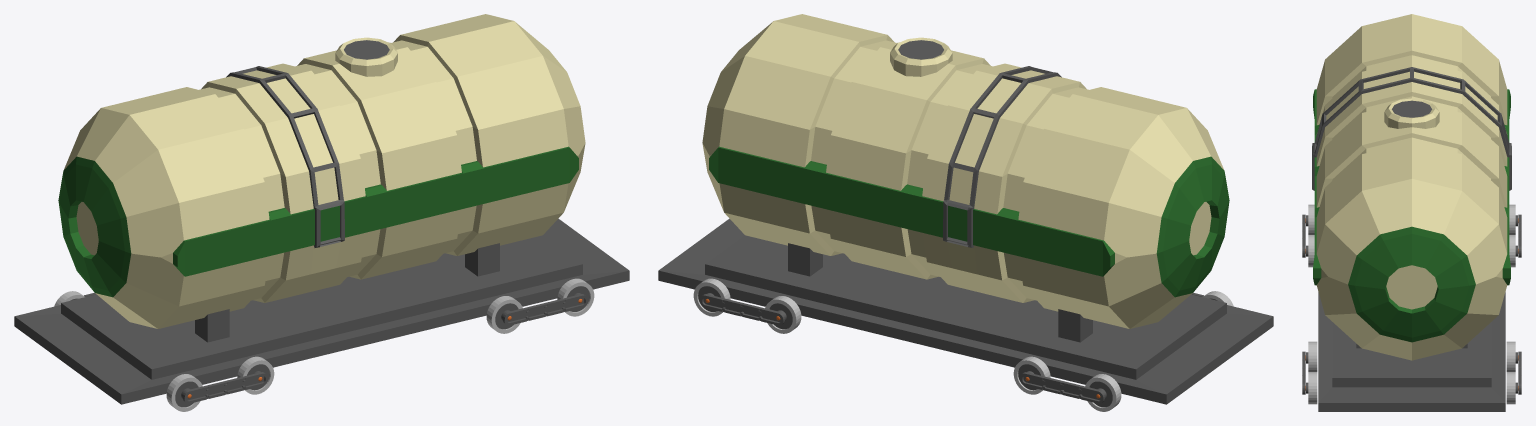
The model's file is oil_container.glb.
The picture shows the model from 3 angles, left to right: view 1: azimuth 30°, elevation 25°; view 2: azimuth 150°, elevation 25°; view 3: azimuth 270°, elevation 25°; orthographic projection. The views are drawn at different scales.
Parts seen in each view (by area): view 1: OilContainer, Base, WheelConector, OilDrain, Cube, Wheel_3, Wheel_7, Wheel_6, Wheel_2; view 2: OilContainer, Base, WheelConector, OilDrain, Cube, Wheel_1, Wheel_5, Wheel_4, Wheel_0; view 3: OilContainer, Base, OilDrain, WheelConector, Wheel_4, Wheel_6, Wheel_5, Wheel_7, Wheel_0, Wheel_2, Wheel_1, Wheel_3.
Boxes of the visible parts, bbox=[...] form: OilContainer: bbox=[58, 14, 585, 328]; Base: bbox=[14, 218, 629, 404]; WheelConector: bbox=[84, 292, 587, 403]; OilDrain: bbox=[335, 37, 397, 76]; Cube: bbox=[195, 243, 499, 342]; Wheel_3: bbox=[166, 374, 202, 411]; Wheel_7: bbox=[486, 296, 522, 333]; Wheel_6: bbox=[557, 278, 594, 316]; Wheel_2: bbox=[237, 356, 274, 394]; OilContainer: bbox=[702, 14, 1229, 328]; Base: bbox=[658, 218, 1273, 404]; WheelConector: bbox=[700, 292, 1203, 403]; OilDrain: bbox=[890, 37, 952, 76]; Cube: bbox=[788, 243, 1092, 342]; Wheel_1: bbox=[1085, 374, 1121, 411]; Wheel_5: bbox=[765, 296, 801, 333]; Wheel_4: bbox=[693, 278, 730, 316]; Wheel_0: bbox=[1013, 356, 1050, 394]; OilContainer: bbox=[1312, 14, 1511, 360]; Base: bbox=[1318, 292, 1505, 411]; OilDrain: bbox=[1384, 98, 1439, 128]; WheelConector: bbox=[1302, 214, 1521, 394]; Wheel_4: bbox=[1506, 372, 1518, 404]; Wheel_6: bbox=[1305, 372, 1317, 404]; Wheel_5: bbox=[1506, 341, 1518, 371]; Wheel_7: bbox=[1305, 341, 1317, 371]; Wheel_0: bbox=[1509, 235, 1518, 267]; Wheel_2: bbox=[1305, 235, 1314, 267]; Wheel_1: bbox=[1509, 204, 1518, 234]; Wheel_3: bbox=[1305, 204, 1314, 234].
Bounding box in the file's own units: 10.46 × 5.14 × 4.46.
